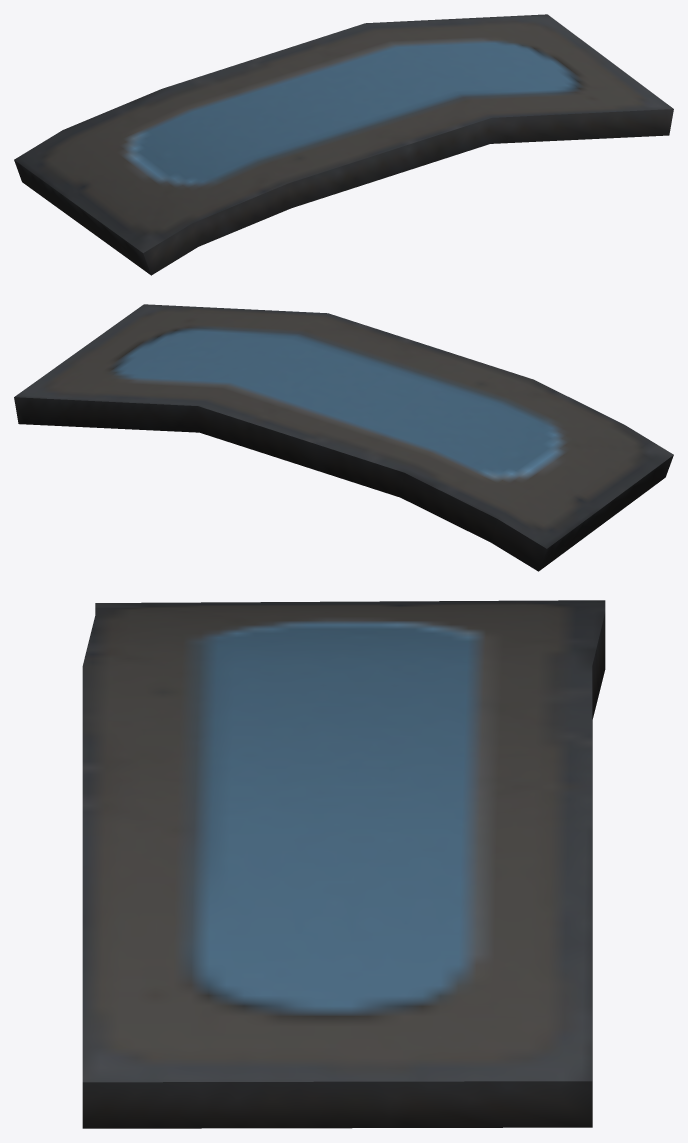
Rendered from UH60CrewWindow.fbx.
3 views of the same model, one above another, from view 1: azimuth 30°, elevation 25°; view 2: azimuth 150°, elevation 25°; view 3: azimuth 270°, elevation 25° (orthographic). The views are drawn at different scales.
Parts seen in each view (by area): view 1: Cube.006; view 2: Cube.006; view 3: Cube.006.
Boxes of the visible parts, left/top/right/bottom form: Cube.006: left=14, top=14, right=673, bottom=275; Cube.006: left=14, top=304, right=673, bottom=571; Cube.006: left=82, top=600, right=605, bottom=1128.
Bounding box in the file's own units: 0.6181 × 0.0879 × 0.2639.
